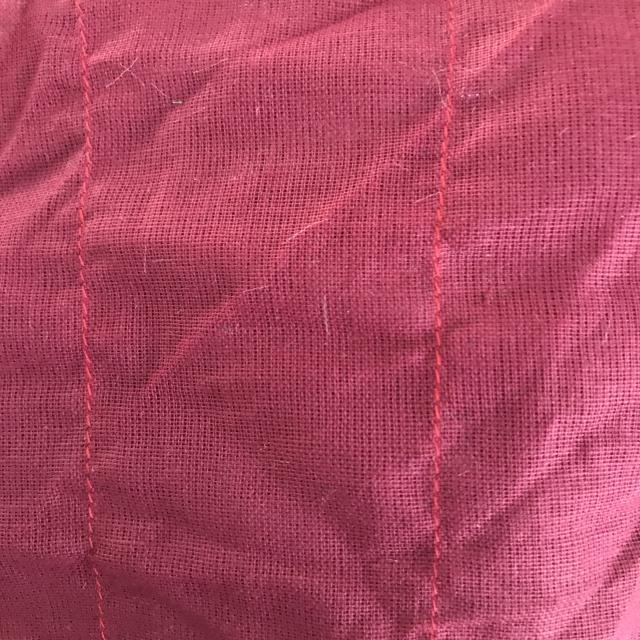good: (70, 444, 120, 530)
